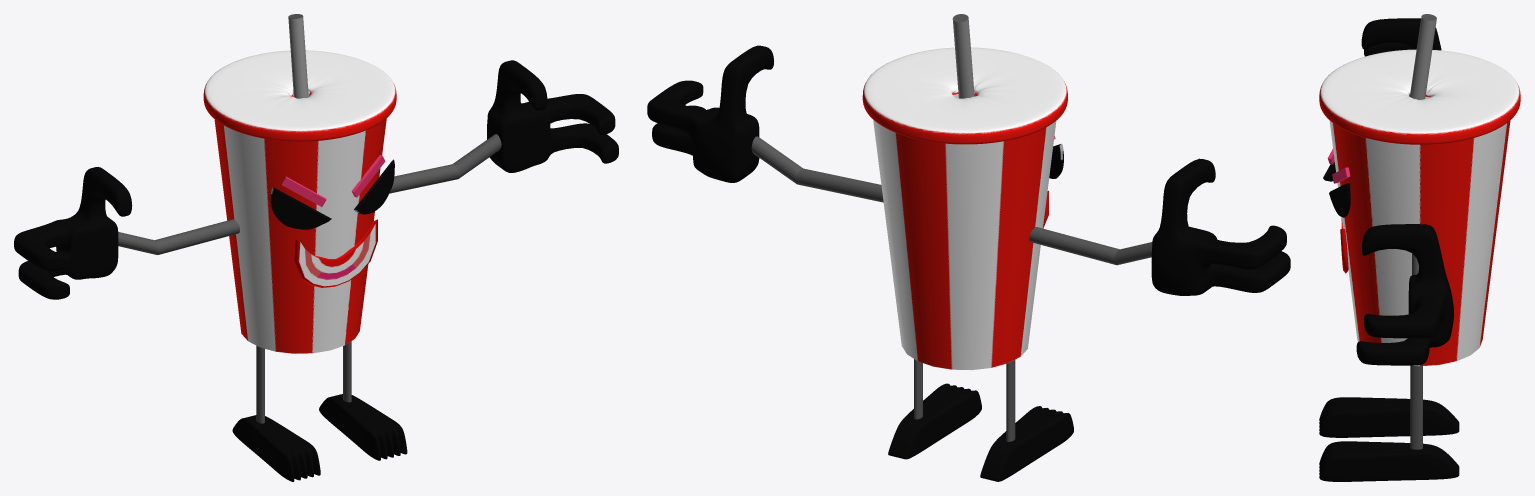
Rendered from Drink.fbx.
3 views of the same model, side by side, from view 1: azimuth 30°, elevation 25°; view 2: azimuth 150°, elevation 25°; view 3: azimuth 270°, elevation 25° (orthographic). The views are drawn at different scales.
Parts seen in each view (by area): view 1: drinkcup, drinklid, handleft, handright, feetleft, feetright, smile, armright, armleft, eyeright, drinkstraw, eyeleft (+1 smaller); view 2: drinkcup, drinklid, handright, handleft, feetright, feetleft, armright, armleft, drinkstraw, legright; view 3: drinkcup, drinklid, handleft, feetleft, feetright, handright, drinkstraw, legleft, eyeleft, smile.
Boxes of the visible parts, x1=… form: drinkcup: x1=214, y1=91, x2=386, y2=353; drinklid: x1=203, y1=50, x2=396, y2=141; handleft: x1=487, y1=60, x2=618, y2=172; handright: x1=14, y1=167, x2=132, y2=299; feetleft: x1=319, y1=394, x2=407, y2=460; feetright: x1=232, y1=415, x2=320, y2=481; smile: x1=294, y1=219, x2=377, y2=287; armright: x1=389, y1=134, x2=501, y2=193; armleft: x1=118, y1=219, x2=239, y2=254; eyeright: x1=270, y1=187, x2=331, y2=229; drinkstraw: x1=288, y1=14, x2=308, y2=98; eyeleft: x1=354, y1=159, x2=394, y2=214; drinkcup: x1=873, y1=94, x2=1056, y2=370; drinklid: x1=862, y1=47, x2=1067, y2=144; handright: x1=1151, y1=158, x2=1290, y2=295; handleft: x1=647, y1=45, x2=773, y2=182; feetright: x1=980, y1=406, x2=1073, y2=481; feetleft: x1=888, y1=383, x2=981, y2=459; armright: x1=751, y1=136, x2=883, y2=202; armleft: x1=1029, y1=227, x2=1152, y2=265; drinkstraw: x1=952, y1=14, x2=974, y2=98; legright: x1=1006, y1=360, x2=1015, y2=441; drinkcup: x1=1329, y1=96, x2=1510, y2=366; drinklid: x1=1319, y1=49, x2=1520, y2=144; handleft: x1=1356, y1=224, x2=1453, y2=365; feetleft: x1=1319, y1=441, x2=1459, y2=481; feetright: x1=1319, y1=397, x2=1459, y2=437; handright: x1=1361, y1=18, x2=1441, y2=56; drinkstraw: x1=1409, y1=14, x2=1436, y2=99; legleft: x1=1410, y1=365, x2=1422, y2=449; eyeleft: x1=1329, y1=182, x2=1350, y2=217; smile: x1=1340, y1=217, x2=1348, y2=273.
Bounding box in the file's own units: 31.29 × 21.56 × 9.04.
Materials: 1 (1 with a texture image).
